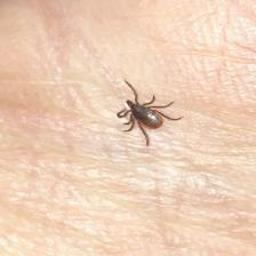Rhipicephalus sanguineus: (117, 78, 183, 148)
